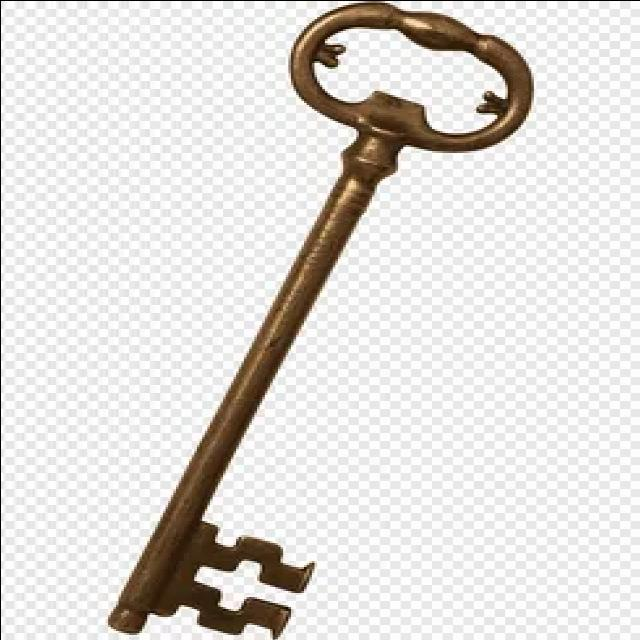key: (78, 0, 560, 640)
